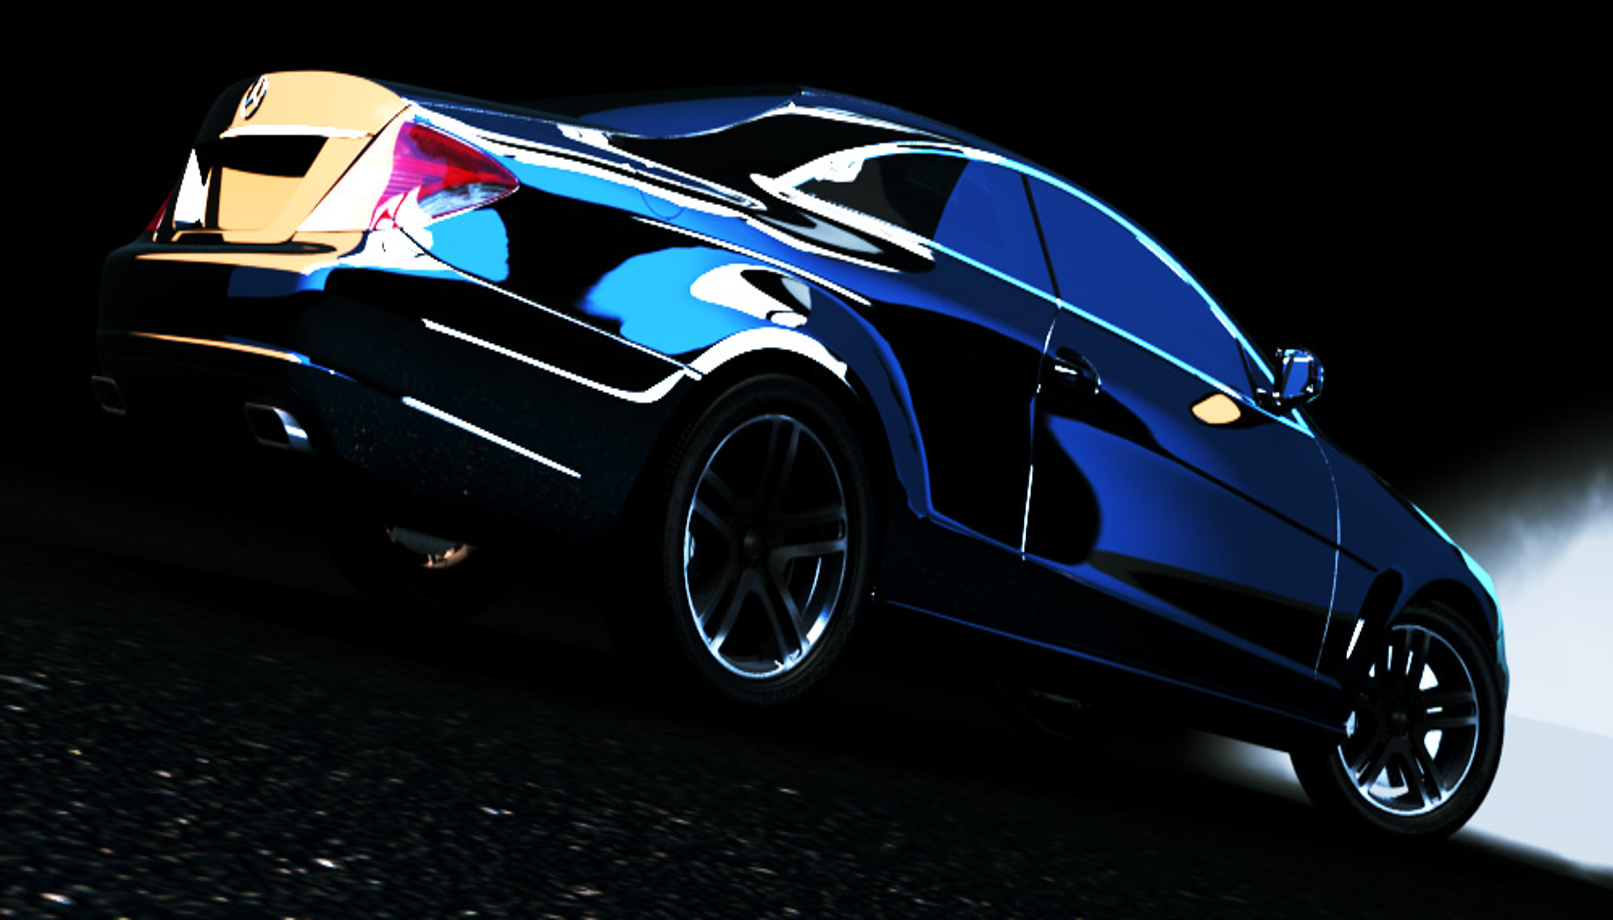hatch: (634, 155, 697, 229)
